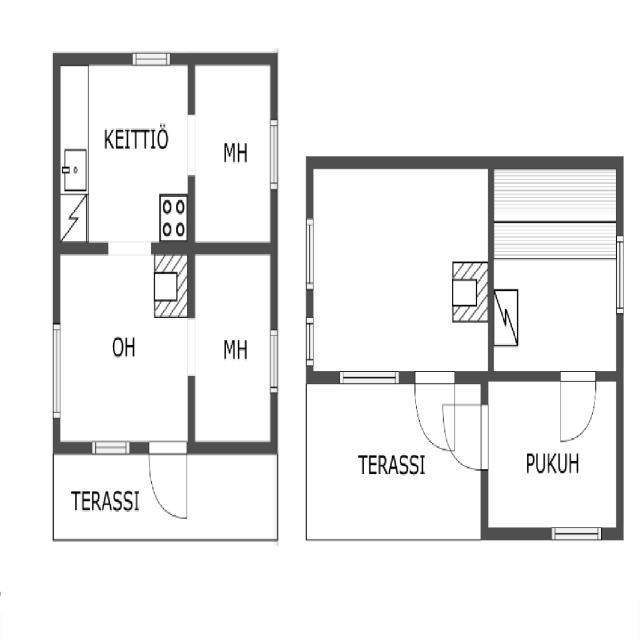door: (408, 366, 479, 465), (438, 385, 493, 481), (146, 434, 191, 527), (554, 365, 600, 447)
window: (335, 363, 408, 388), (545, 520, 609, 548), (181, 106, 202, 186), (50, 318, 64, 428), (612, 227, 628, 323), (266, 110, 282, 199), (182, 309, 200, 387), (303, 212, 317, 298), (126, 46, 173, 70), (86, 436, 133, 459), (267, 321, 280, 402), (104, 239, 156, 259), (303, 314, 316, 372)
zone: (308, 164, 491, 378), (489, 164, 621, 382), (56, 247, 190, 449), (56, 61, 192, 250), (480, 376, 624, 539), (484, 372, 620, 537), (188, 252, 278, 450), (191, 59, 276, 250)
